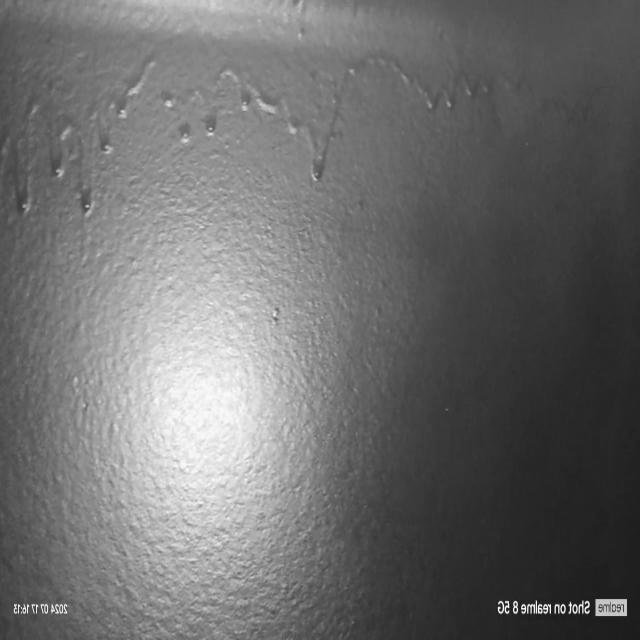paint drips: (0, 43, 567, 229)
